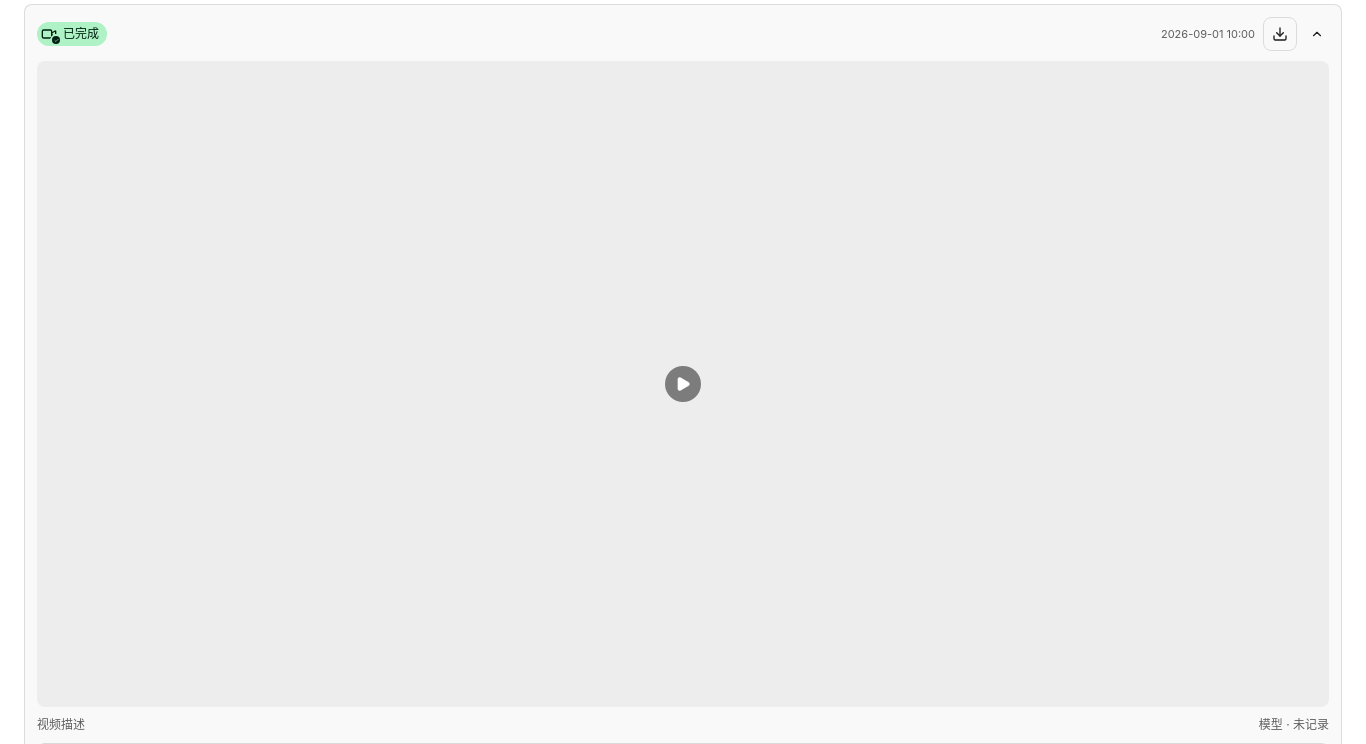
it: GenerationRecords › 非OSS视频图标 默认不挂载视频，点击后在共享预览中播放正确地址，关闭后卸载并归还焦点
The image size is (1366, 744).
(page scrolled)
Expected: the field labelled "生成的视频" is not shown
Click the button named "播放视频": {"x": 115, "y": 384} [37,61,1329,707]
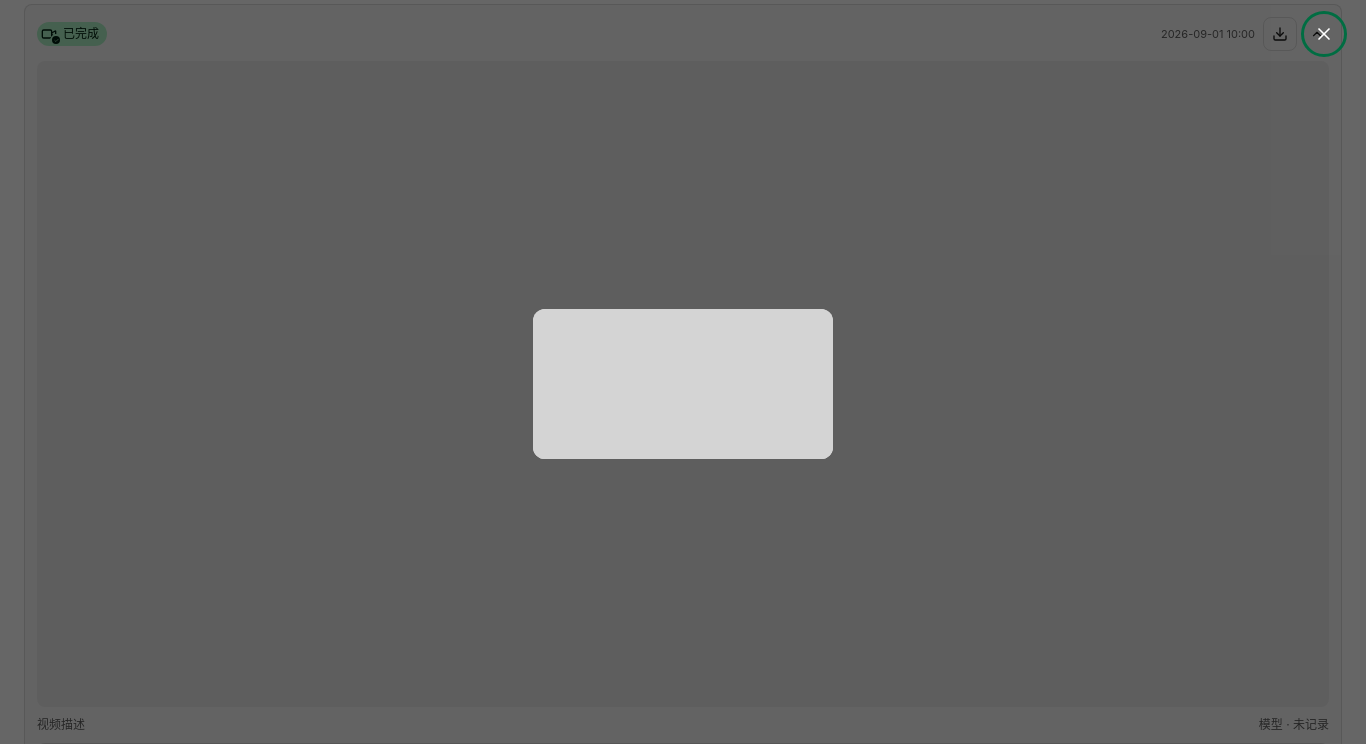
Click the button named "关闭": {"x": 1324, "y": 34} [1306,16,1342,52]
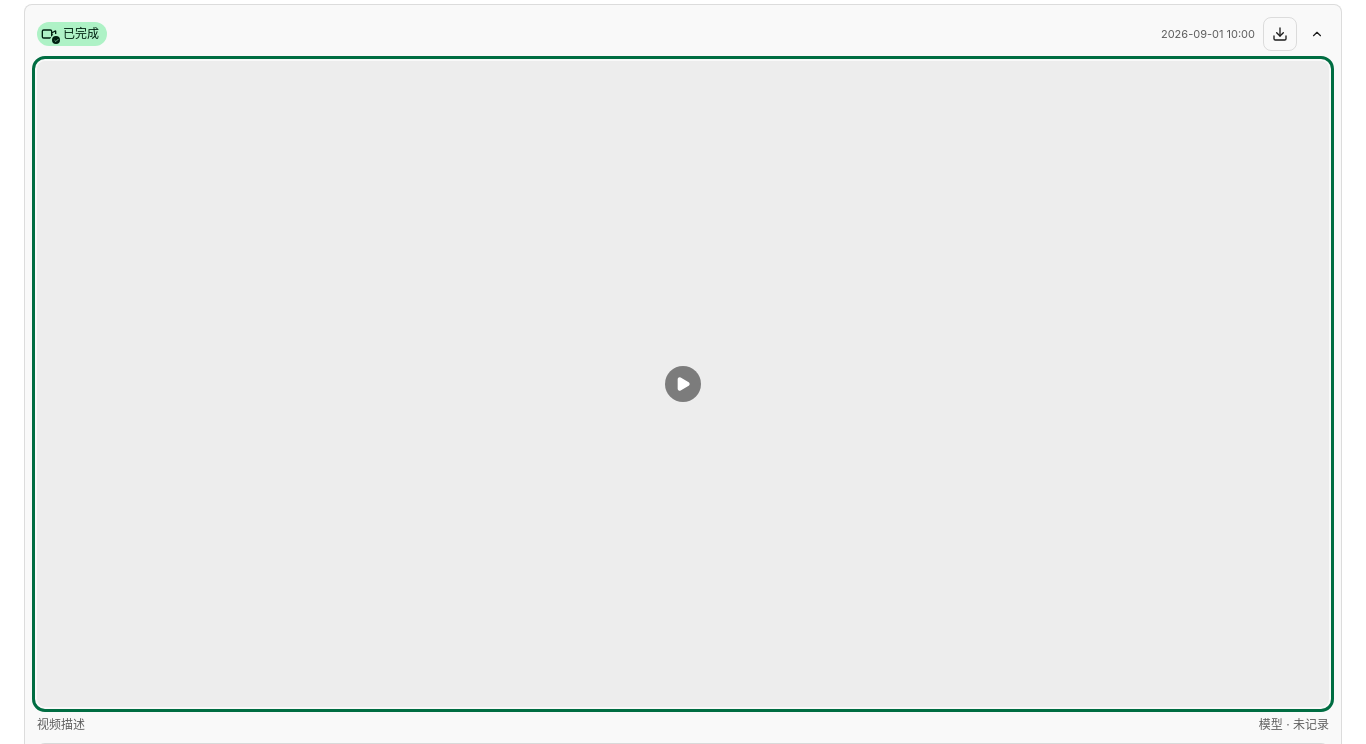
Expected: the dialog "生成的视频" is gone
Expected: the field labelled "生成的视频" is gone
